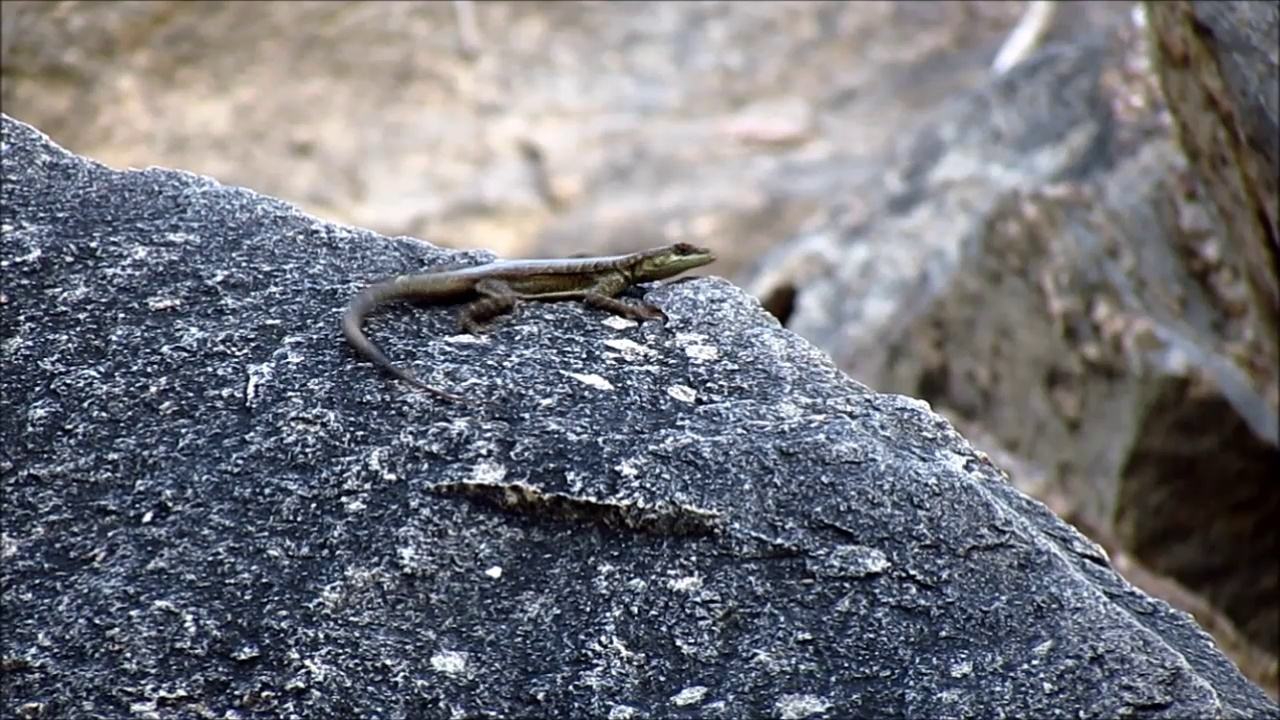body: (341, 245, 661, 392)
head: (635, 241, 716, 280)
